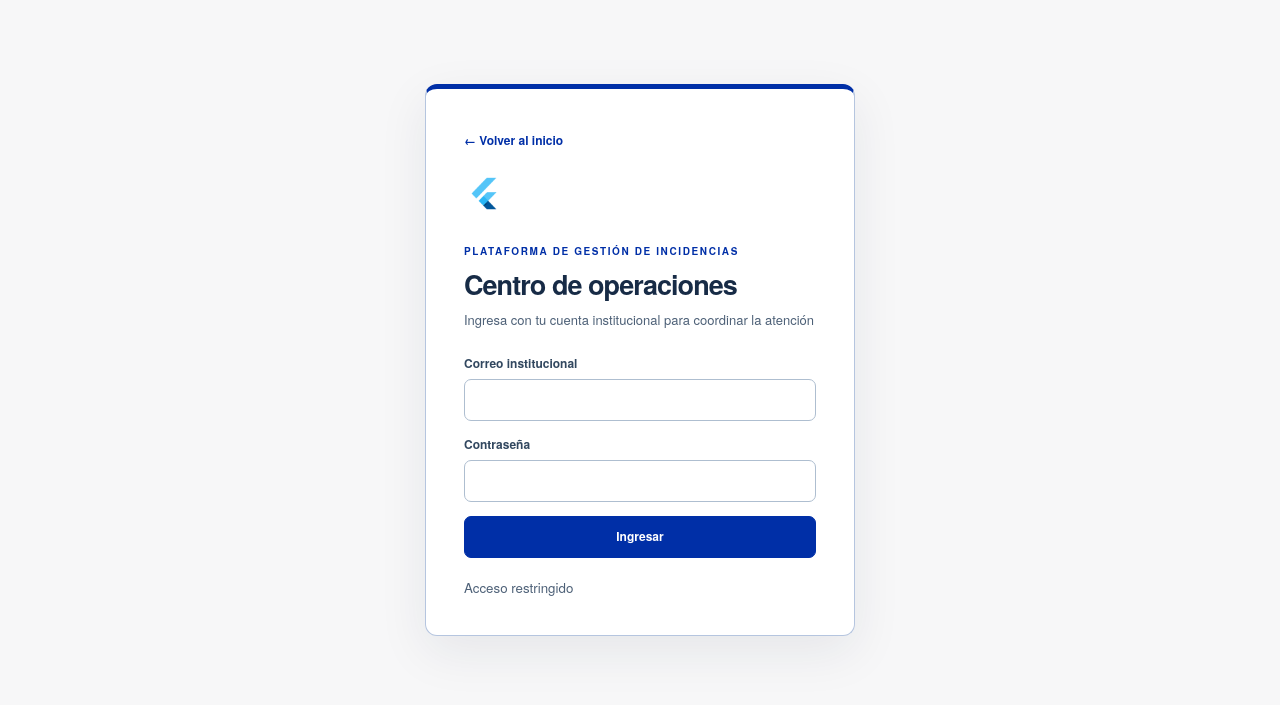
Test: un error de lectura permite reintentar sin mostrar formulario vacío
In the field labelled "Correo institucional": (640, 400) [464, 379, 816, 421], type "operator@example.invalid"
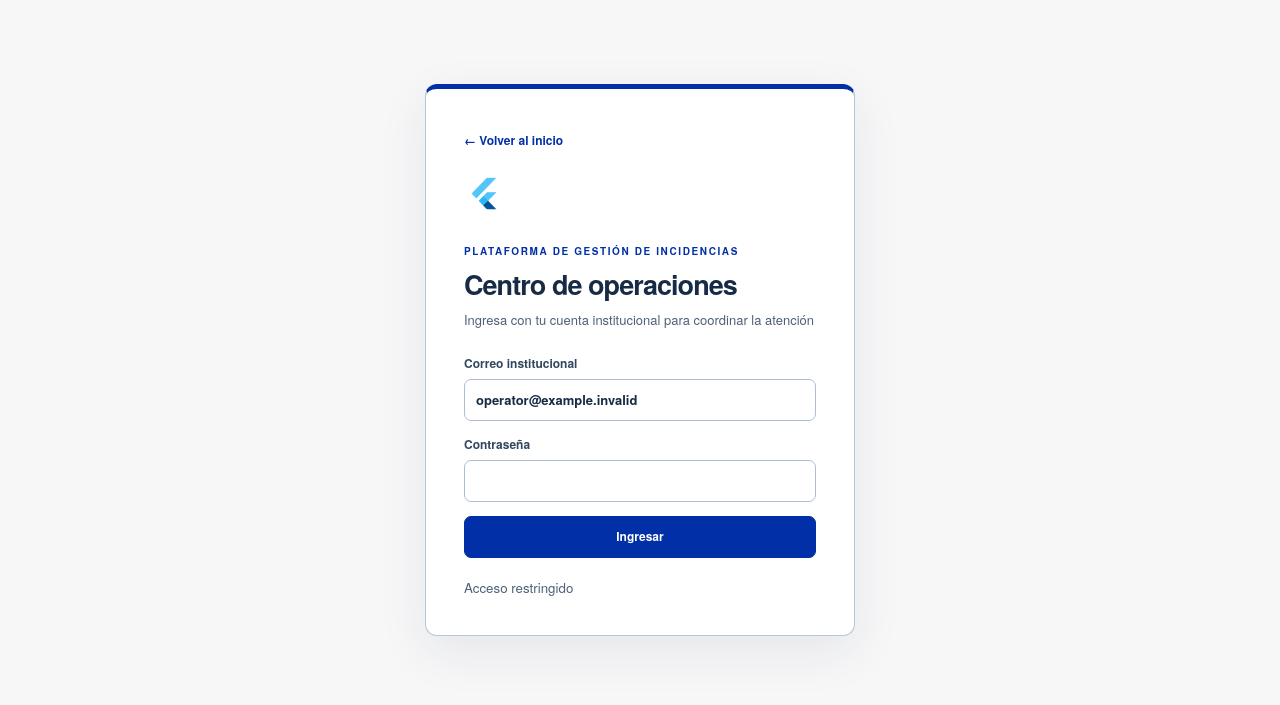
In the password field labelled "Contraseña": (640, 481) [464, 460, 816, 502], type "test-password-only"
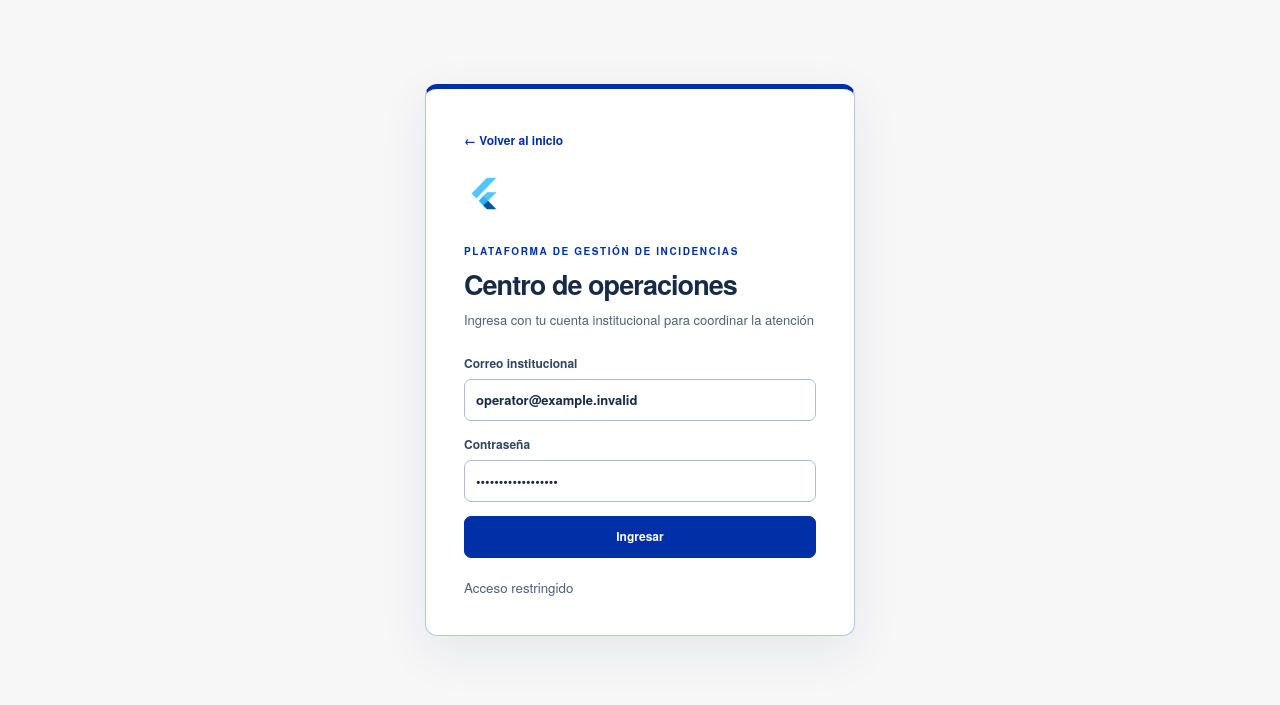
Click the button "Ingresar": (640, 537) [464, 516, 816, 558]
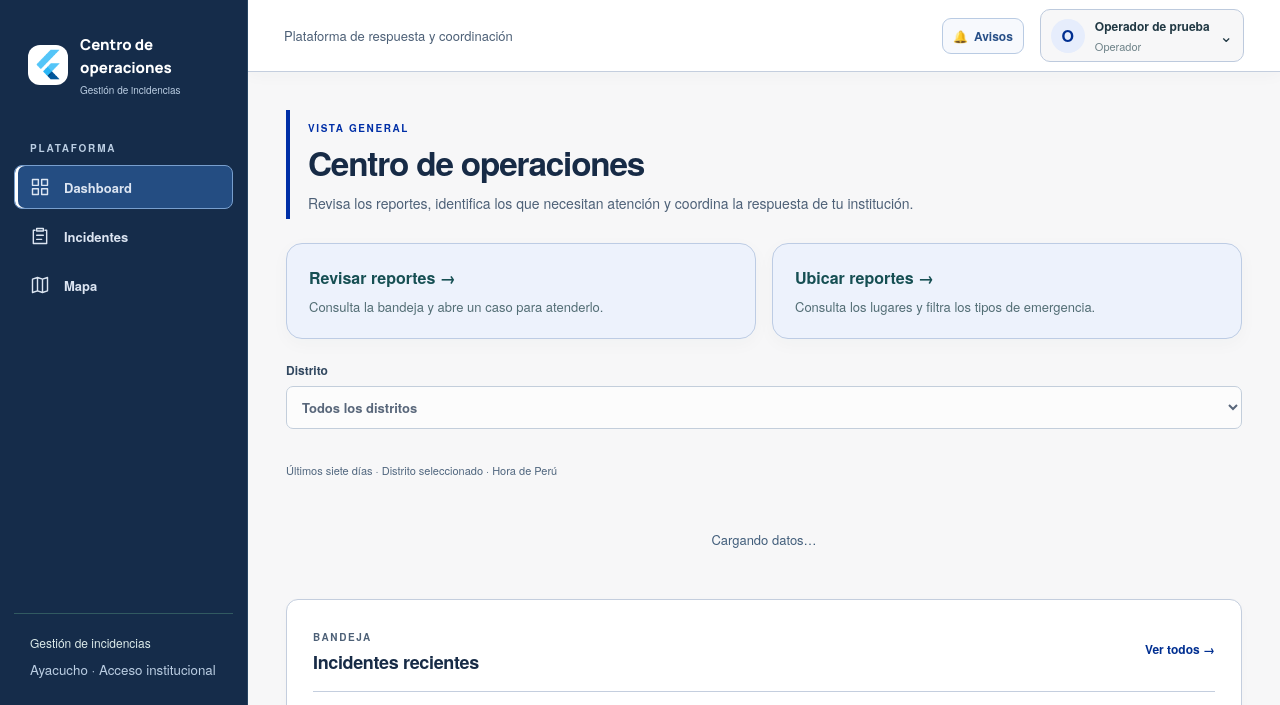
Click the button with aria-label "Cuenta de": (1142, 36) [1040, 9, 1244, 62]
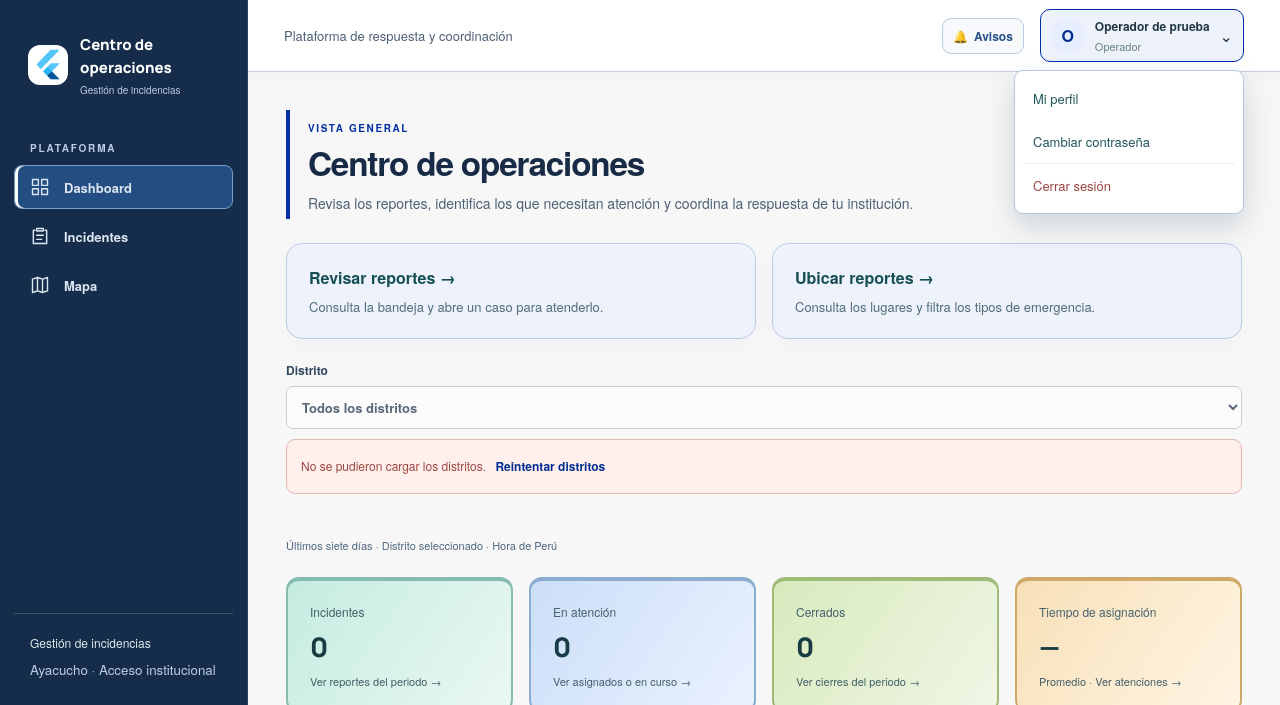
Click the link "Mi perfil": (1056, 98) [1033, 89, 1078, 108]
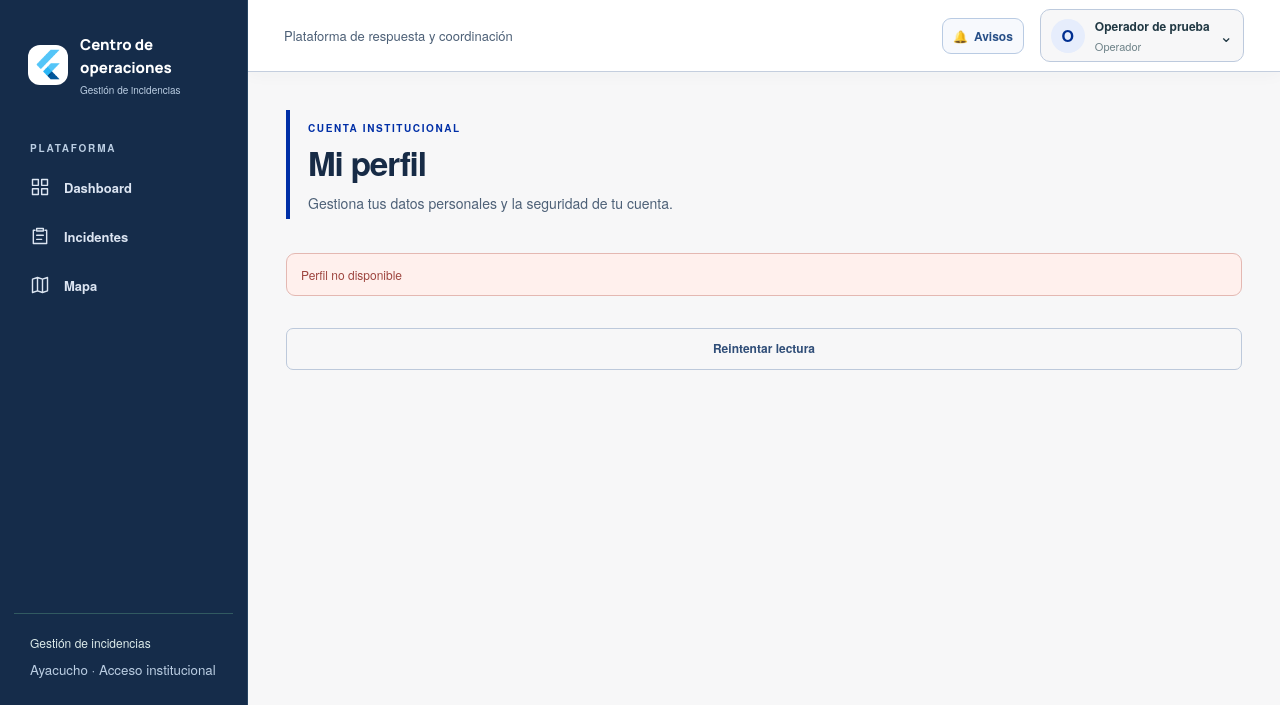
expect the field labelled "Nombre completo" is not shown: met
expect the text "Perfil no disponible" is shown: met, box [286, 253, 1242, 296]
Click the button "Reintentar lectura": (764, 349) [286, 328, 1242, 370]
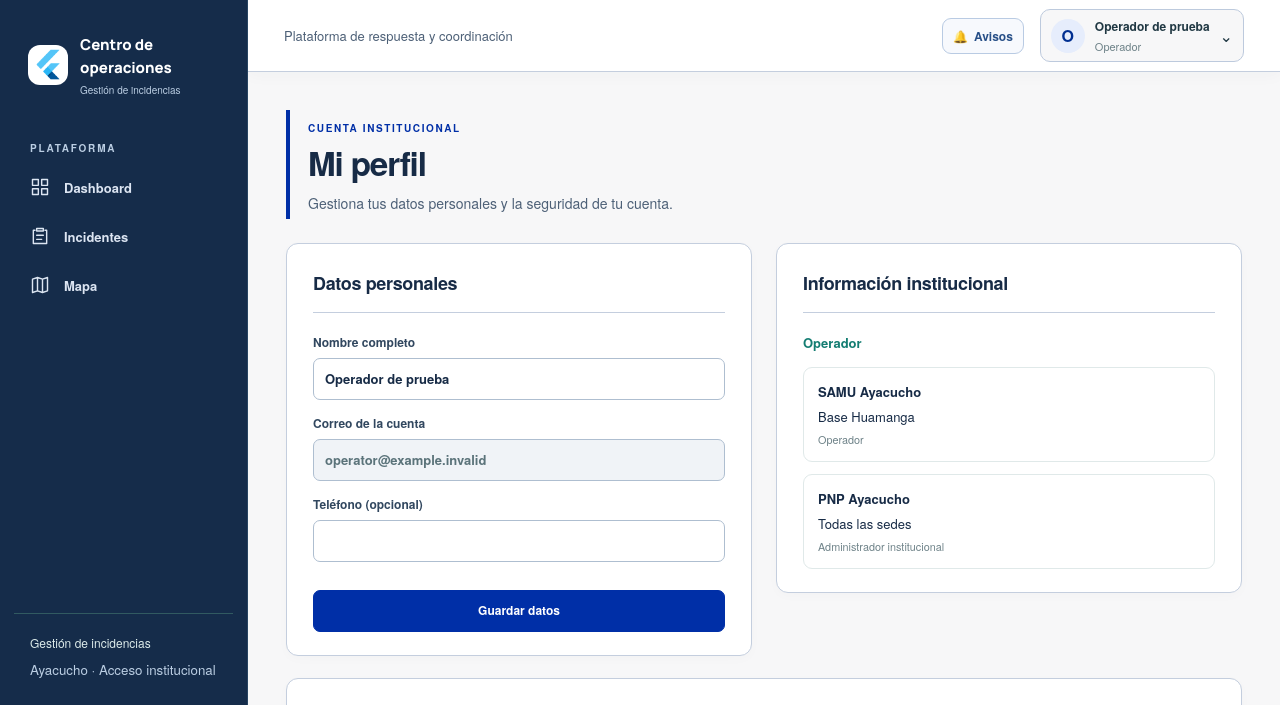
expect the field labelled "Nombre completo" is shown: met, box [313, 358, 725, 400]
